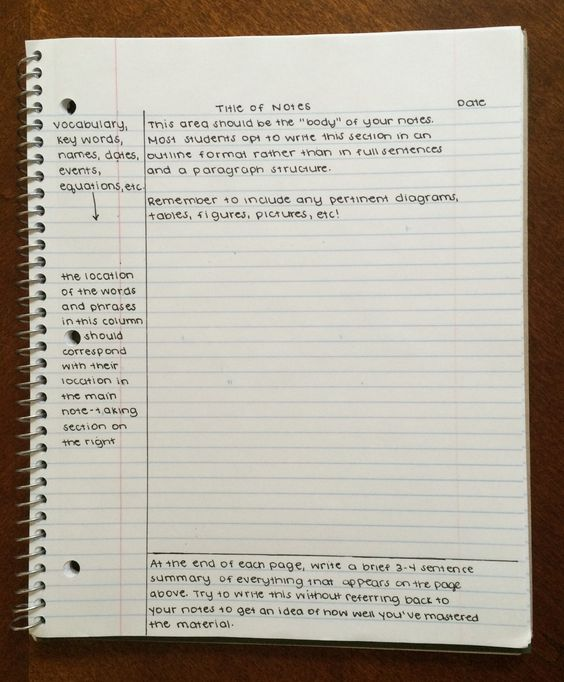page: (51, 43, 520, 633)
